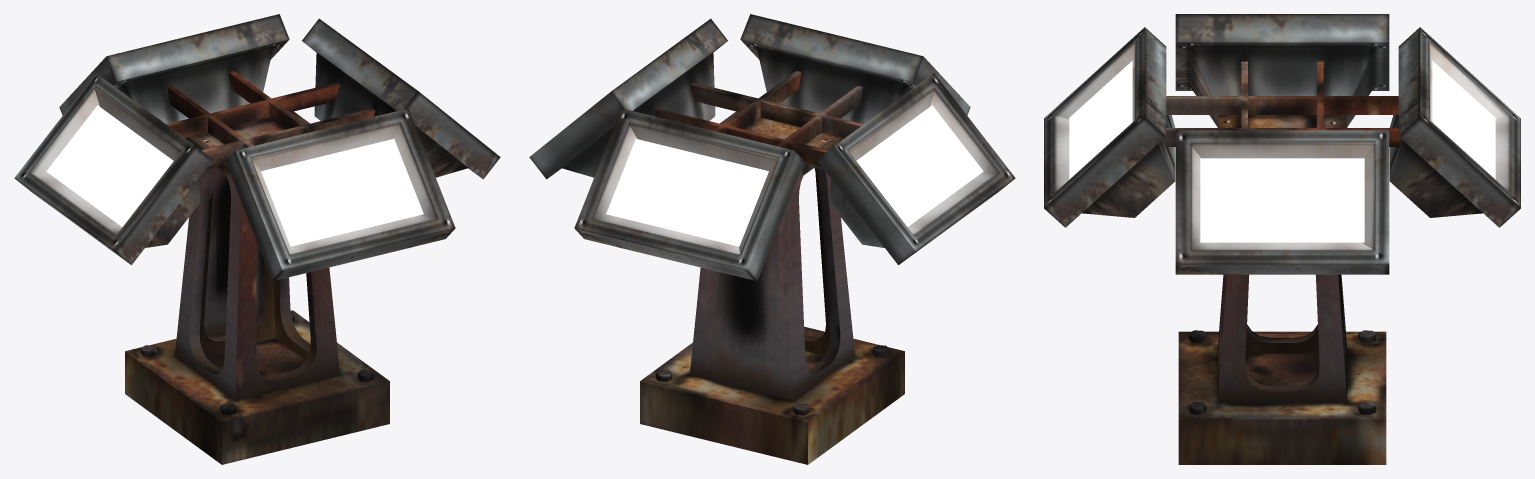
Rendered from YardLamp_Ceiling_ALL.FBX.
3 views of the same model, side by side, from view 1: azimuth 30°, elevation 25°; view 2: azimuth 150°, elevation 25°; view 3: azimuth 270°, elevation 25° (orthographic). The views are drawn at different scales.
Parts seen in each view (by area): view 1: YardLamp_Ceiling_LOD0, Source002, Source004; view 2: YardLamp_Ceiling_LOD0, Source001, Source004; view 3: YardLamp_Ceiling_LOD0, Source003, Source002, Source001.
Boxes of the visible parts, x1=… form: YardLamp_Ceiling_LOD0: x1=14, y1=14, x2=500, y2=464; Source002: x1=261, y1=139, x2=423, y2=246; Source004: x1=46, y1=105, x2=173, y2=226; YardLamp_Ceiling_LOD0: x1=529, y1=14, x2=1015, y2=464; Source001: x1=606, y1=139, x2=768, y2=246; Source004: x1=856, y1=105, x2=983, y2=226; YardLamp_Ceiling_LOD0: x1=1044, y1=14, x2=1520, y2=464; Source003: x1=1200, y1=158, x2=1364, y2=242; Source002: x1=1069, y1=60, x2=1132, y2=179; Source001: x1=1432, y1=60, x2=1495, y2=179.
Size of what is drawn, in the model's own units: 1839 by 1486 by 1839.
